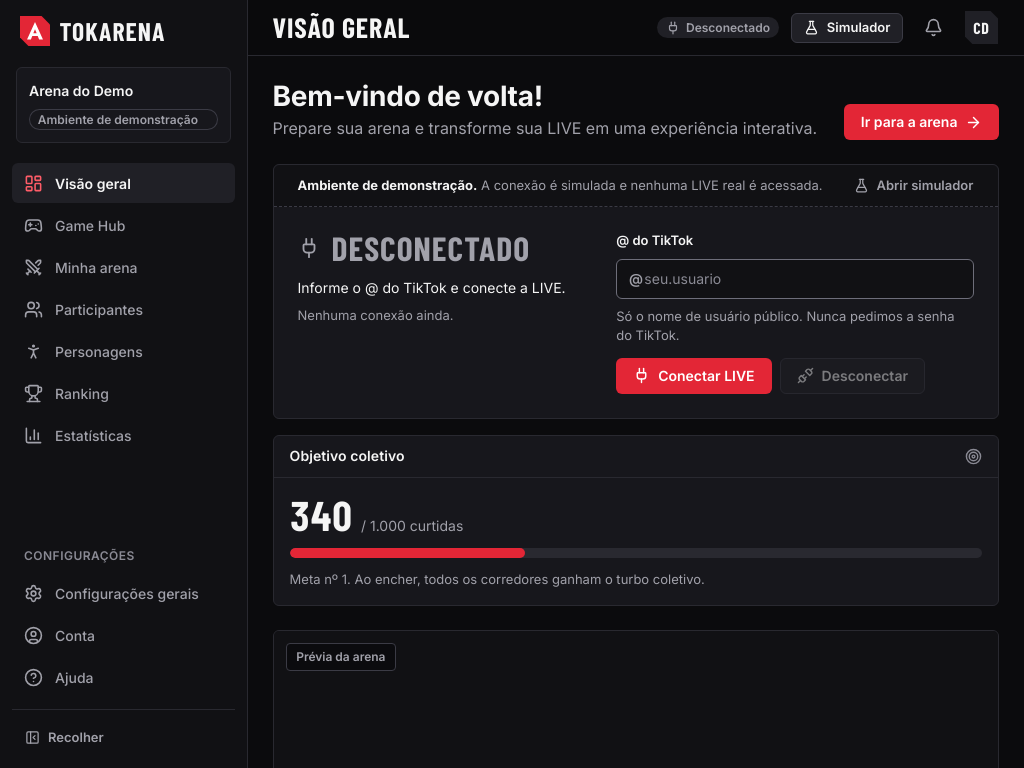
Scenario: visão geral e conexão simulada › conecta pelo @ até ficar ao vivo e permite desconectar
Type "@criador.demo" into the field labelled "@ do TikTok" at (795, 279), box [616,259,974,299]
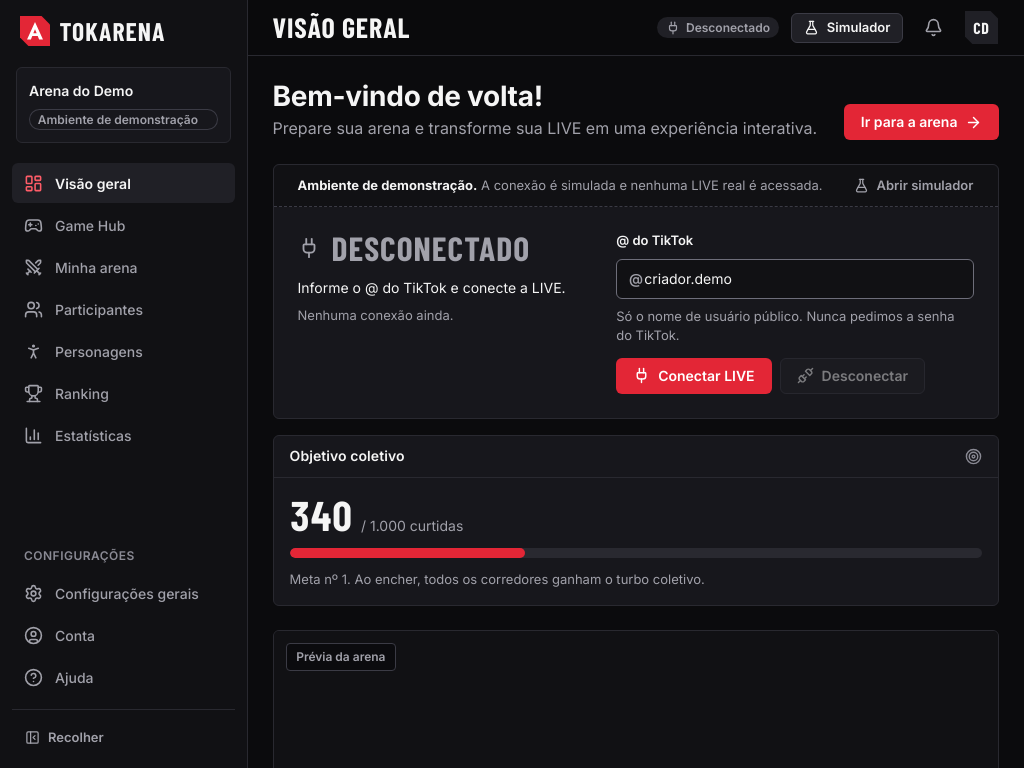
Click the button "Conectar LIVE" at (694, 376), box [616,358,772,394]
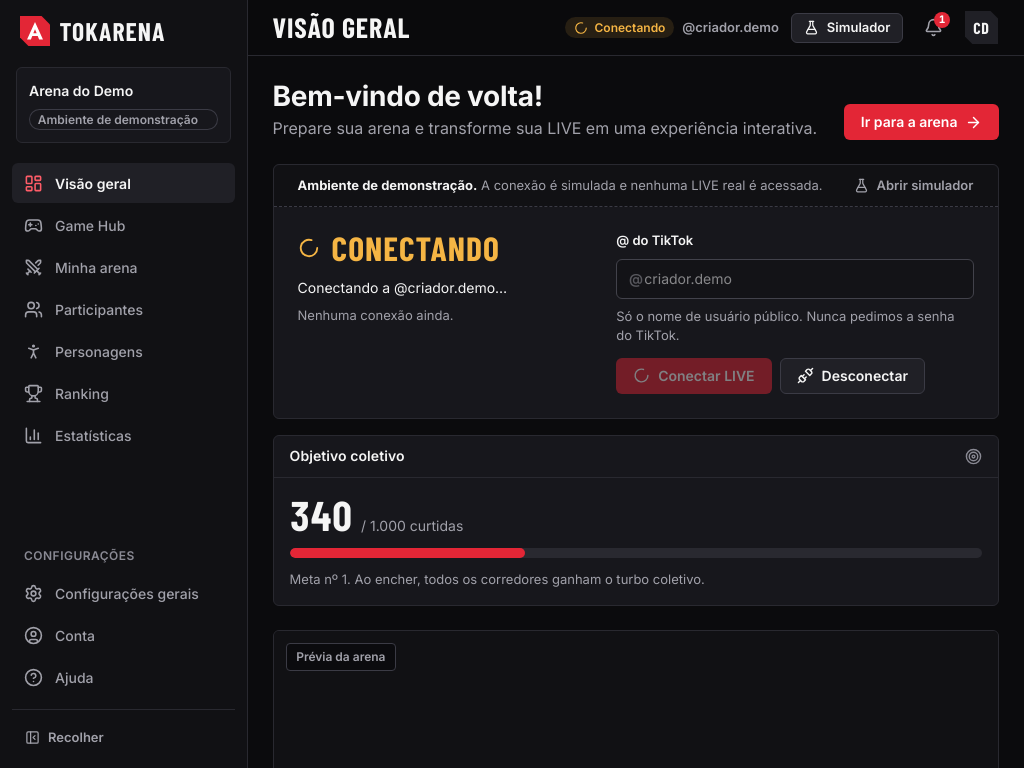
Now the text "Conectando" is shown, box [594,20,665,35]
Now the button "Desconectar" is enabled
Click the button "Desconectar" at (852, 376), box [780,358,925,394]
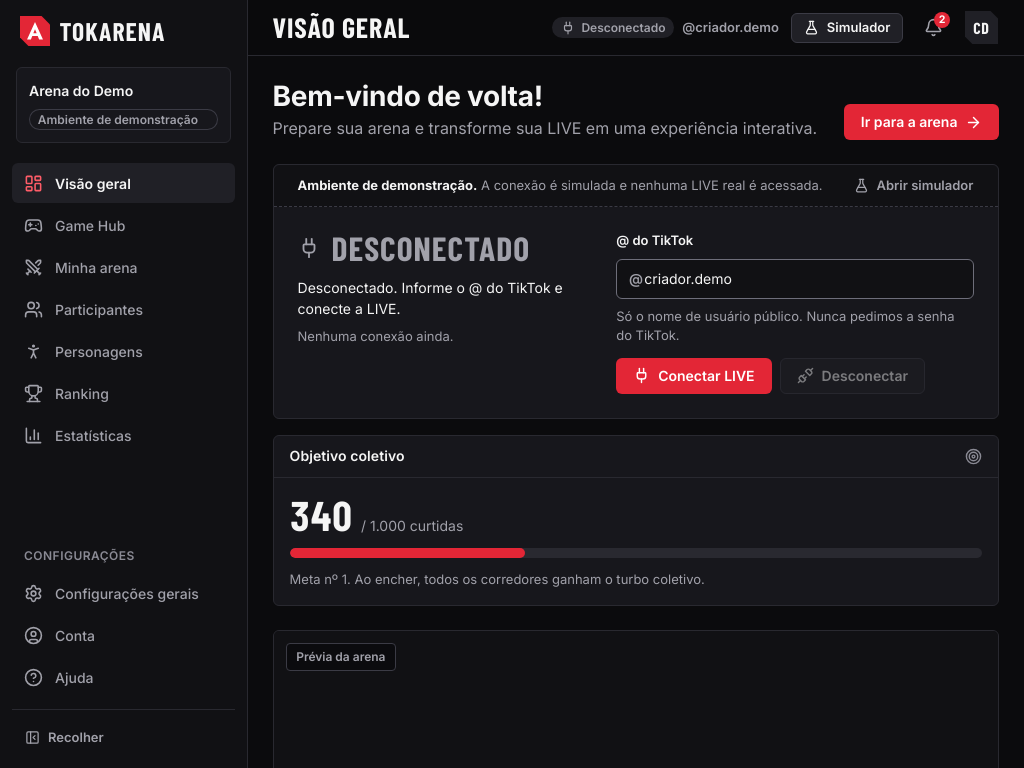
Now the text "Desconectado" is shown, box [581,20,666,35]
